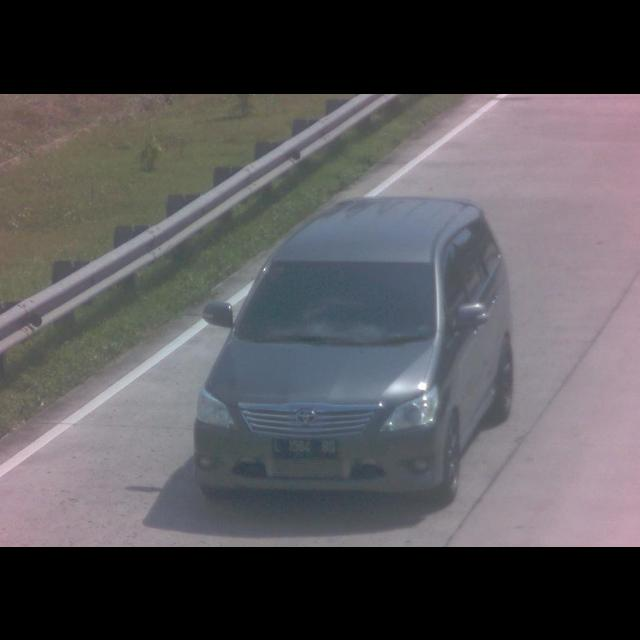plate: (268, 434, 338, 460)
